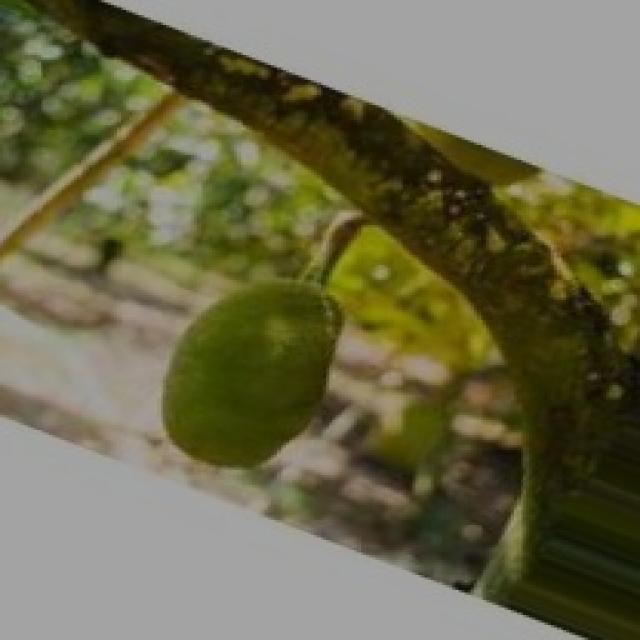Fruit: (126, 255, 372, 500)
